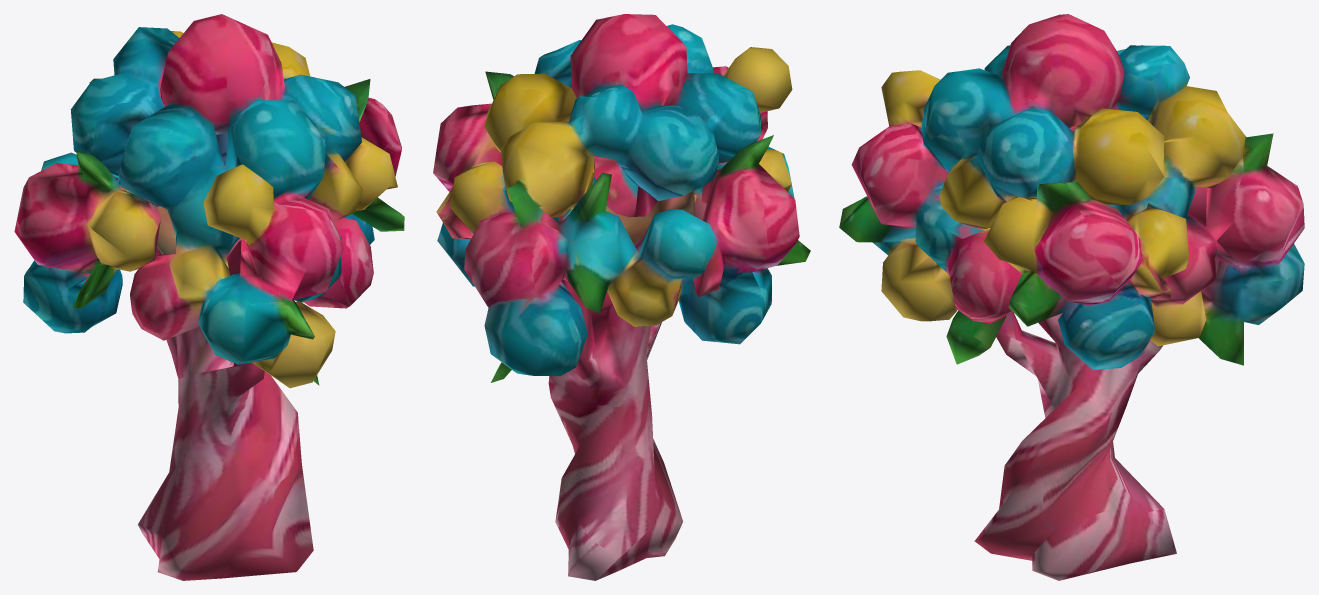
Rendered from candy-lollipop-tree-lod-k0w52tja.glb.
The picture shows the model from 3 angles, left to right: view 1: azimuth 30°, elevation 25°; view 2: azimuth 150°, elevation 25°; view 3: azimuth 270°, elevation 25°; orthographic projection. The views are drawn at different scales.
Visible parts, largest first — view 1: tripo_node_0df11bcf-d323-4516-a1d5-21886d765e4e; view 2: tripo_node_0df11bcf-d323-4516-a1d5-21886d765e4e; view 3: tripo_node_0df11bcf-d323-4516-a1d5-21886d765e4e.
Part boxes in pixels (left/top/right/bottom): tripo_node_0df11bcf-d323-4516-a1d5-21886d765e4e: left=14, top=14, right=404, bottom=580; tripo_node_0df11bcf-d323-4516-a1d5-21886d765e4e: left=433, top=14, right=810, bottom=580; tripo_node_0df11bcf-d323-4516-a1d5-21886d765e4e: left=839, top=14, right=1304, bottom=580.
Size of the model in its own units: 0.7122 by 0.996 by 0.784.
Materials: 1 (1 with a texture image).
